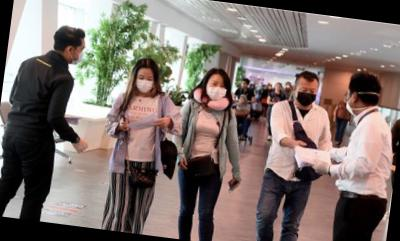with_mask: (295, 84, 320, 110), (205, 79, 228, 103), (134, 73, 156, 96), (69, 42, 86, 67), (345, 90, 359, 119), (268, 85, 273, 91), (286, 83, 291, 89)
without_mask: (275, 82, 283, 92), (238, 96, 246, 105), (240, 81, 248, 89)
